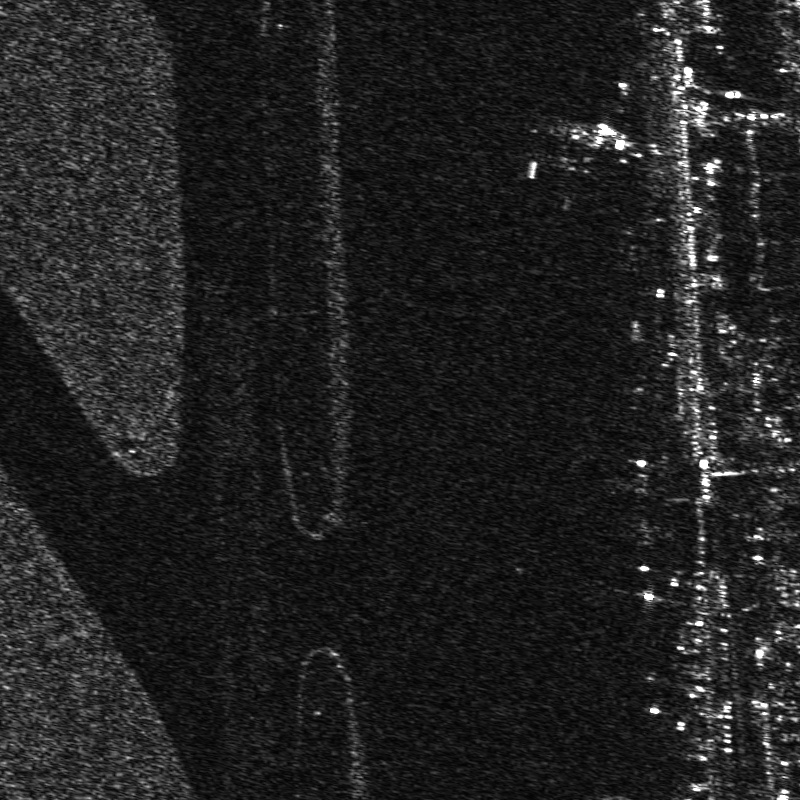A220: (517, 112, 656, 182)
